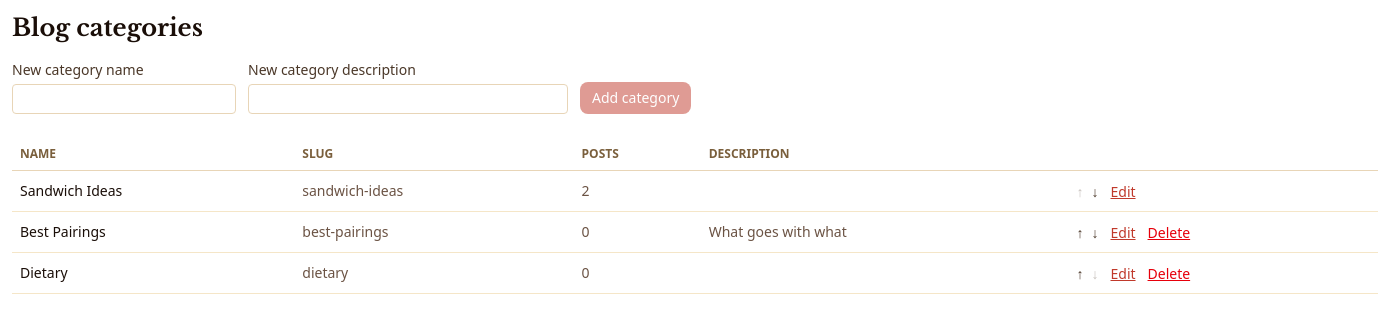
BlogCategoriesPage editing › leaves the category unchanged when editing is cancelled
expect the text "Sandwich Ideas" is shown: met, box [12,170,294,212]
Click the button with aria-label "Edit Dietary" at (1123, 274), box [1110,264,1136,284]
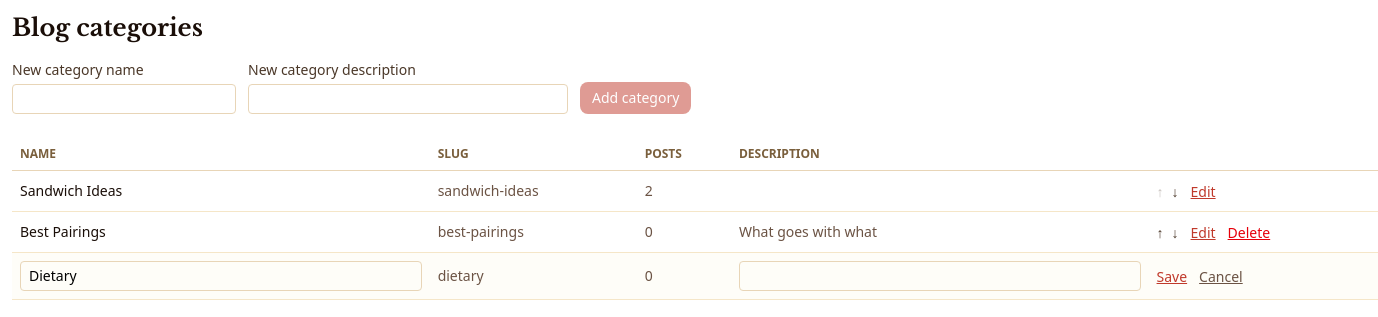
Type " extra" into the field named "Name" at (221, 276), box [20,261,422,291]
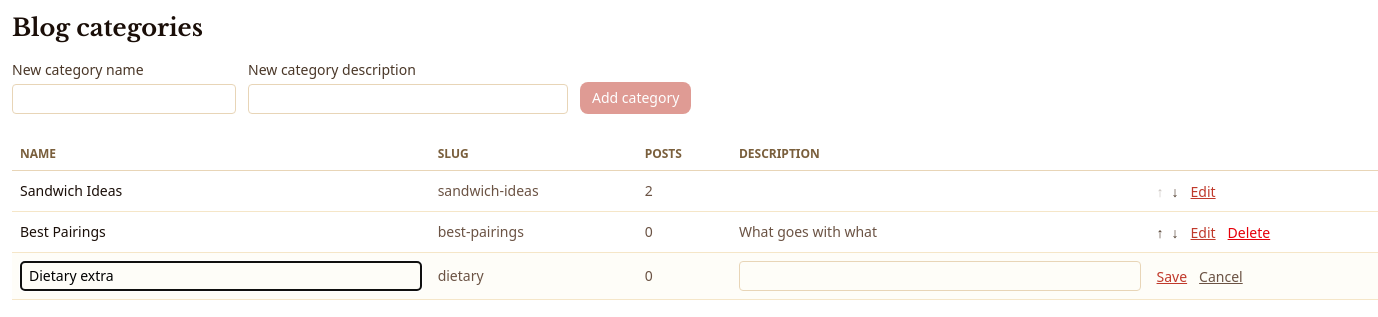
Click the button "Cancel" at (1221, 277), box [1199,267,1243,287]
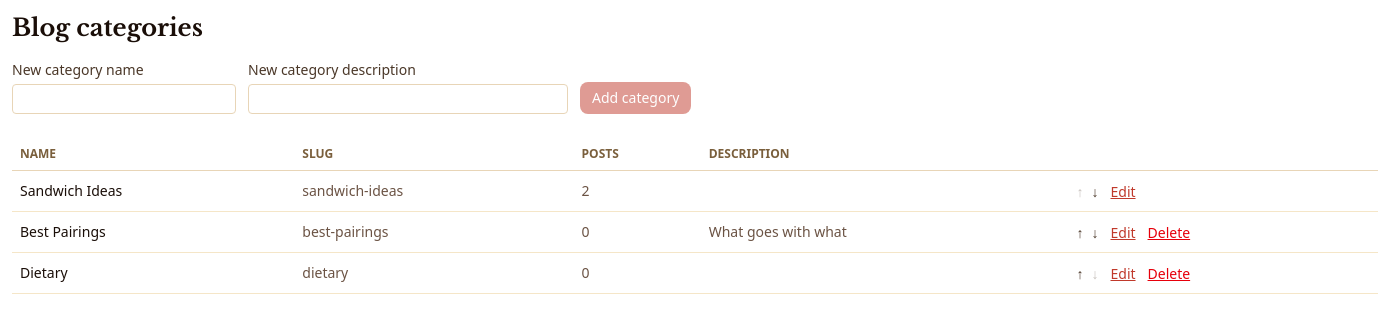
expect the text "Dietary" is shown: met, box [12,252,294,294]
